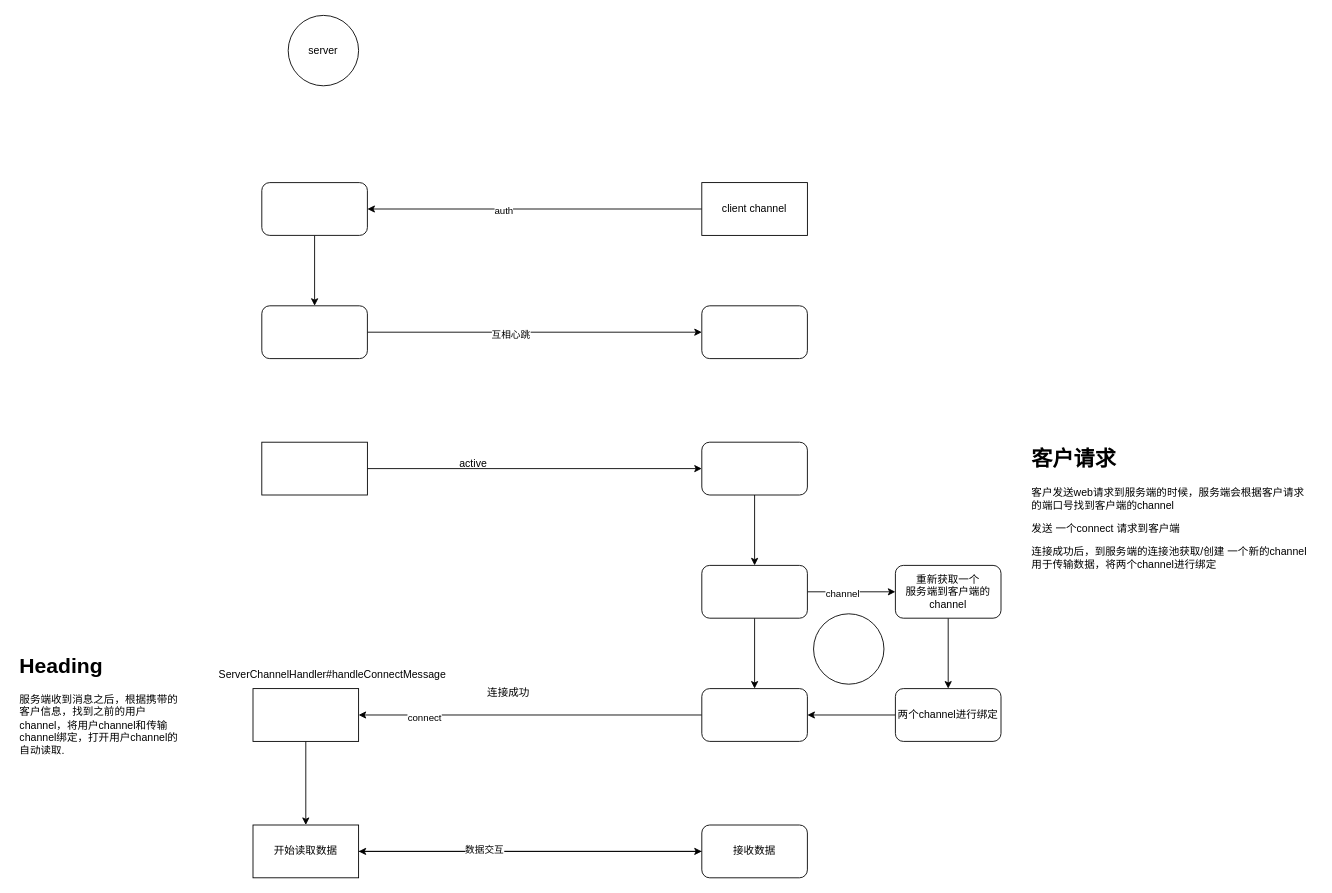
Image size: 1332x893. Some labels were removed from this diagram. Here are the shapes that lost their labels. From the top down, the box of each, then its label:
(261, 441, 367, 495): 收到用户的web请求
(701, 565, 807, 618): 连接真实的客户项目
(701, 688, 807, 741): 新创建的传输channel
